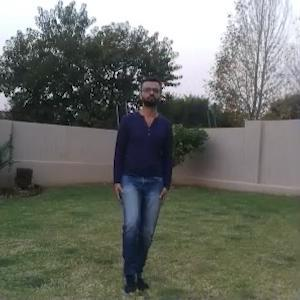follow: (111, 70, 174, 283)
